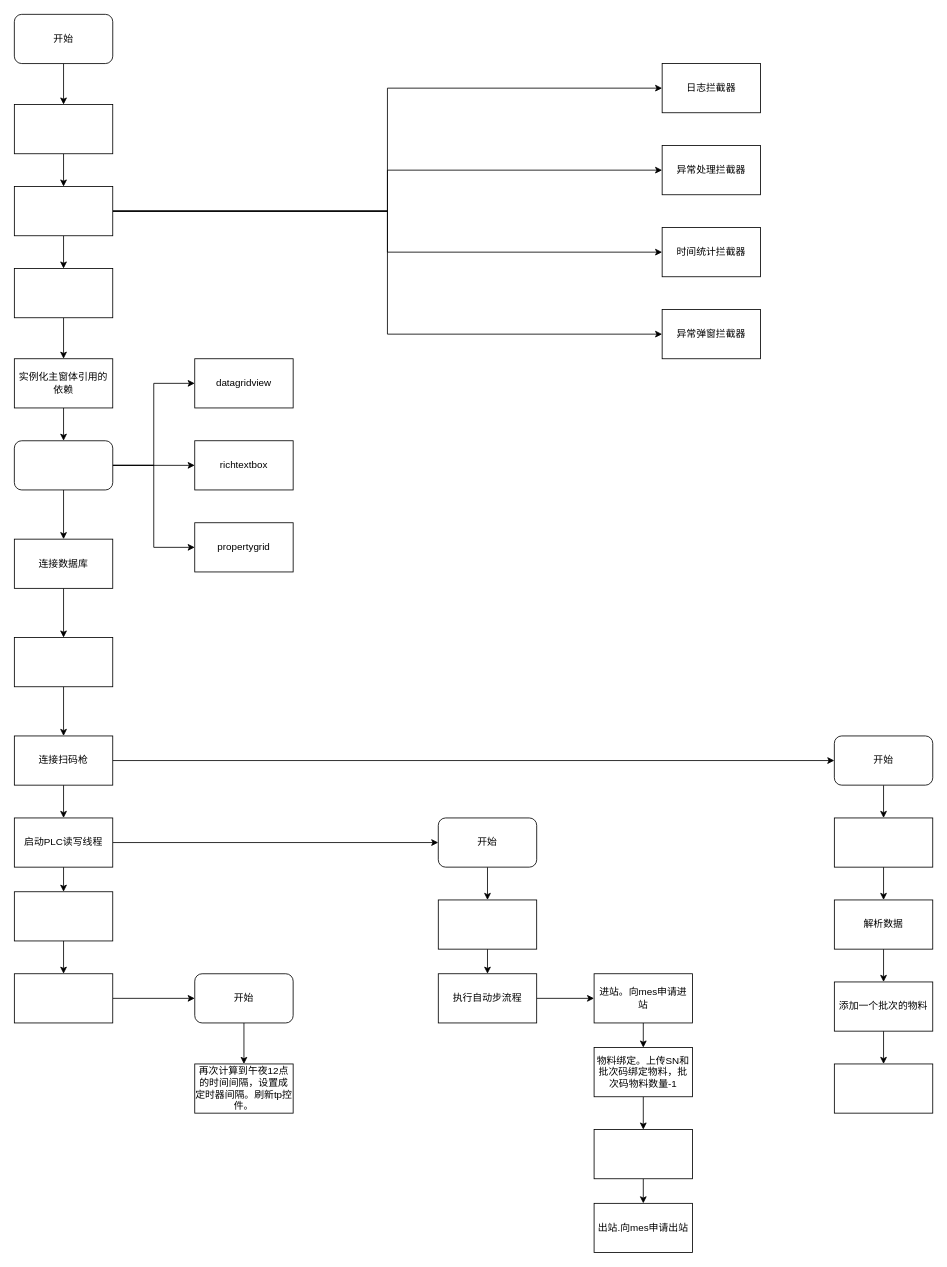
This 947x1267 diagram has some shape labels left out. Here are the shapes that lost their labels. From the top down, the centre of each, then its label:
At (63,129): "注册容器服务".
At (63,211): "注册拦截器".
At (63,293): "实例主窗体".
At (63,465): "Init方法绑定控件".
At (63,662): "连接PLC".
At (883,842): "获取缓冲区数据".
At (63,916): "启动UI定时器".
At (487,924): "读取PLC数据".
At (63,998): "计算程序启动时间到晚12点的时间间隔，设置成定时器间隔，启动TP刷新定时器".
At (883,1088): "双向绑定数据自动更新到dgv".
At (642,1154): "数据上传".
